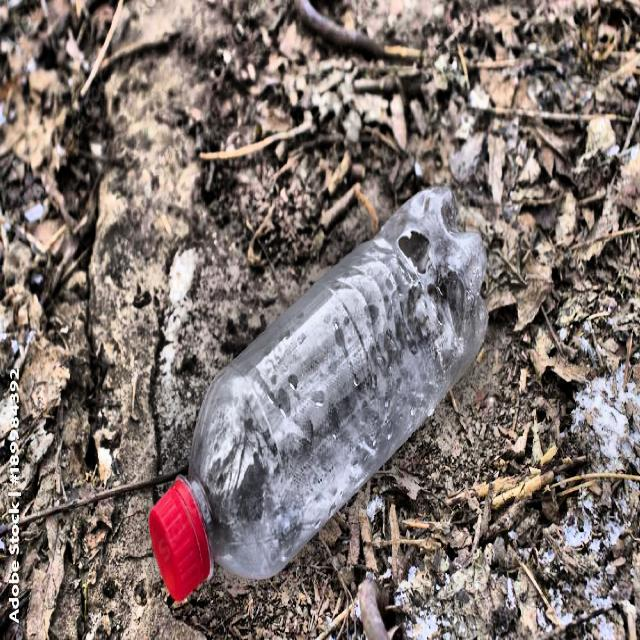plastic bottle: (149, 188, 488, 601)
